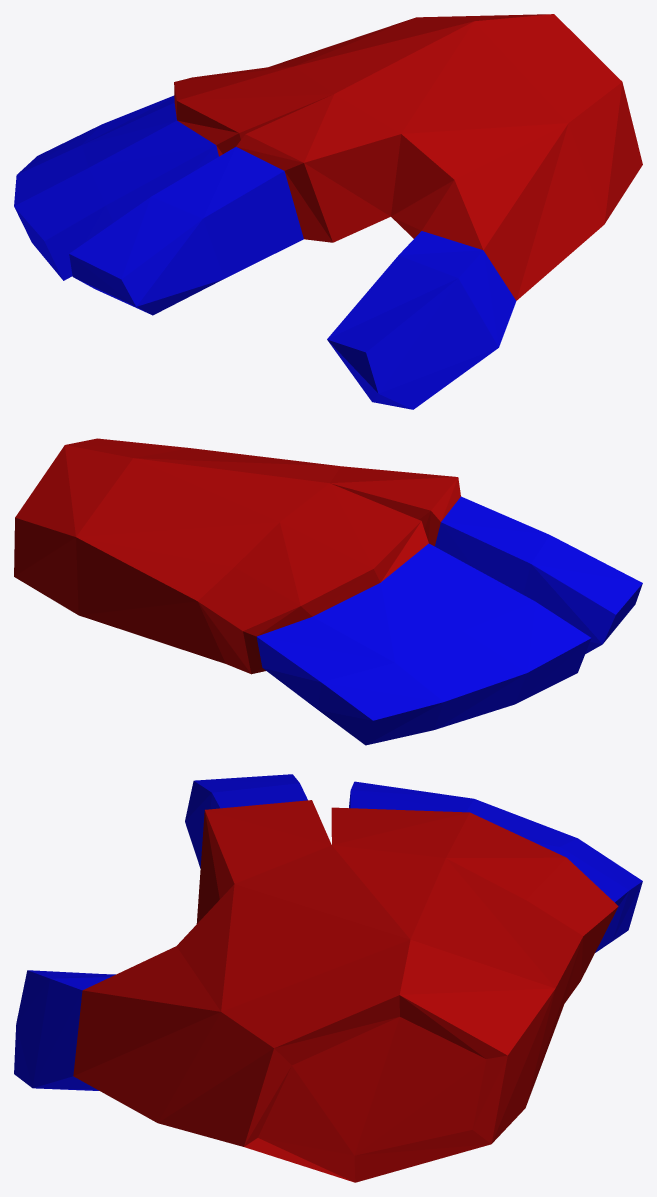
Rendered from Chr_HandRight_Male_Static_17.fbx.
3 renders of one model, top to bottom at view 1: azimuth 30°, elevation 25°; view 2: azimuth 150°, elevation 25°; view 3: azimuth 270°, elevation 25°, orthographic. The views are drawn at different scales.
Parts seen in each view (by area): view 1: Chr_HandRight_Male_17; view 2: Chr_HandRight_Male_17; view 3: Chr_HandRight_Male_17.
Boxes of the visible parts, x1,y1,x2,y2 form: Chr_HandRight_Male_17: (14,14,642,409); Chr_HandRight_Male_17: (14,438,642,745); Chr_HandRight_Male_17: (14,774,642,1182).
Size of the model in its own units: 23.61 by 9.52 by 18.8.
